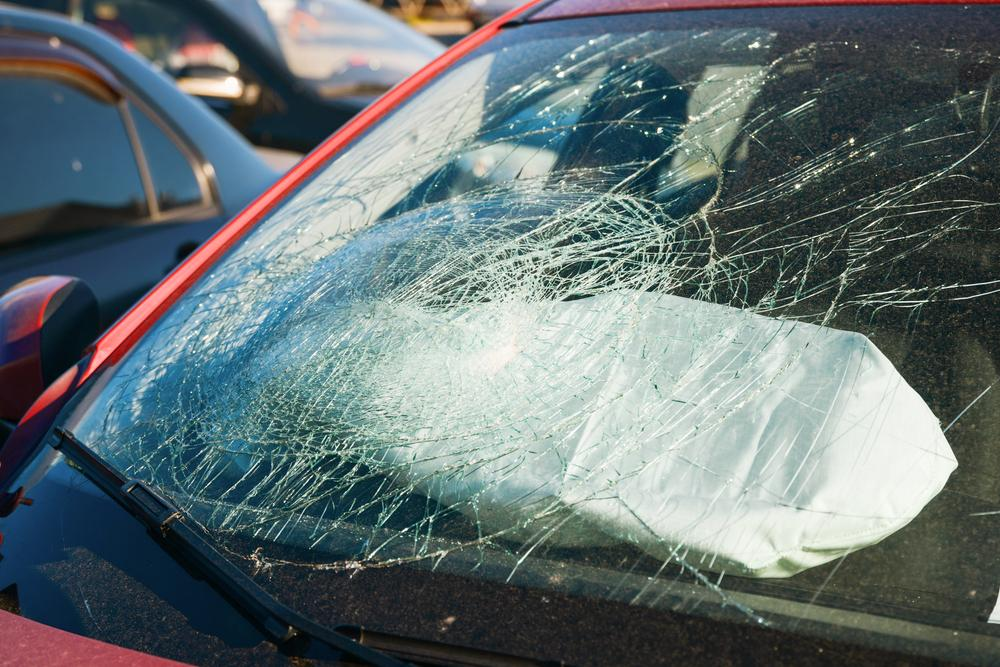glass shatter: (0, 4, 1000, 667)
